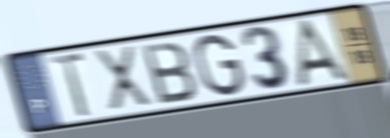3: (240, 24, 292, 93)
A: (294, 16, 355, 88)
B: (139, 39, 200, 107)
G: (192, 32, 247, 99)
T: (47, 50, 93, 120)
X: (92, 43, 156, 113)
